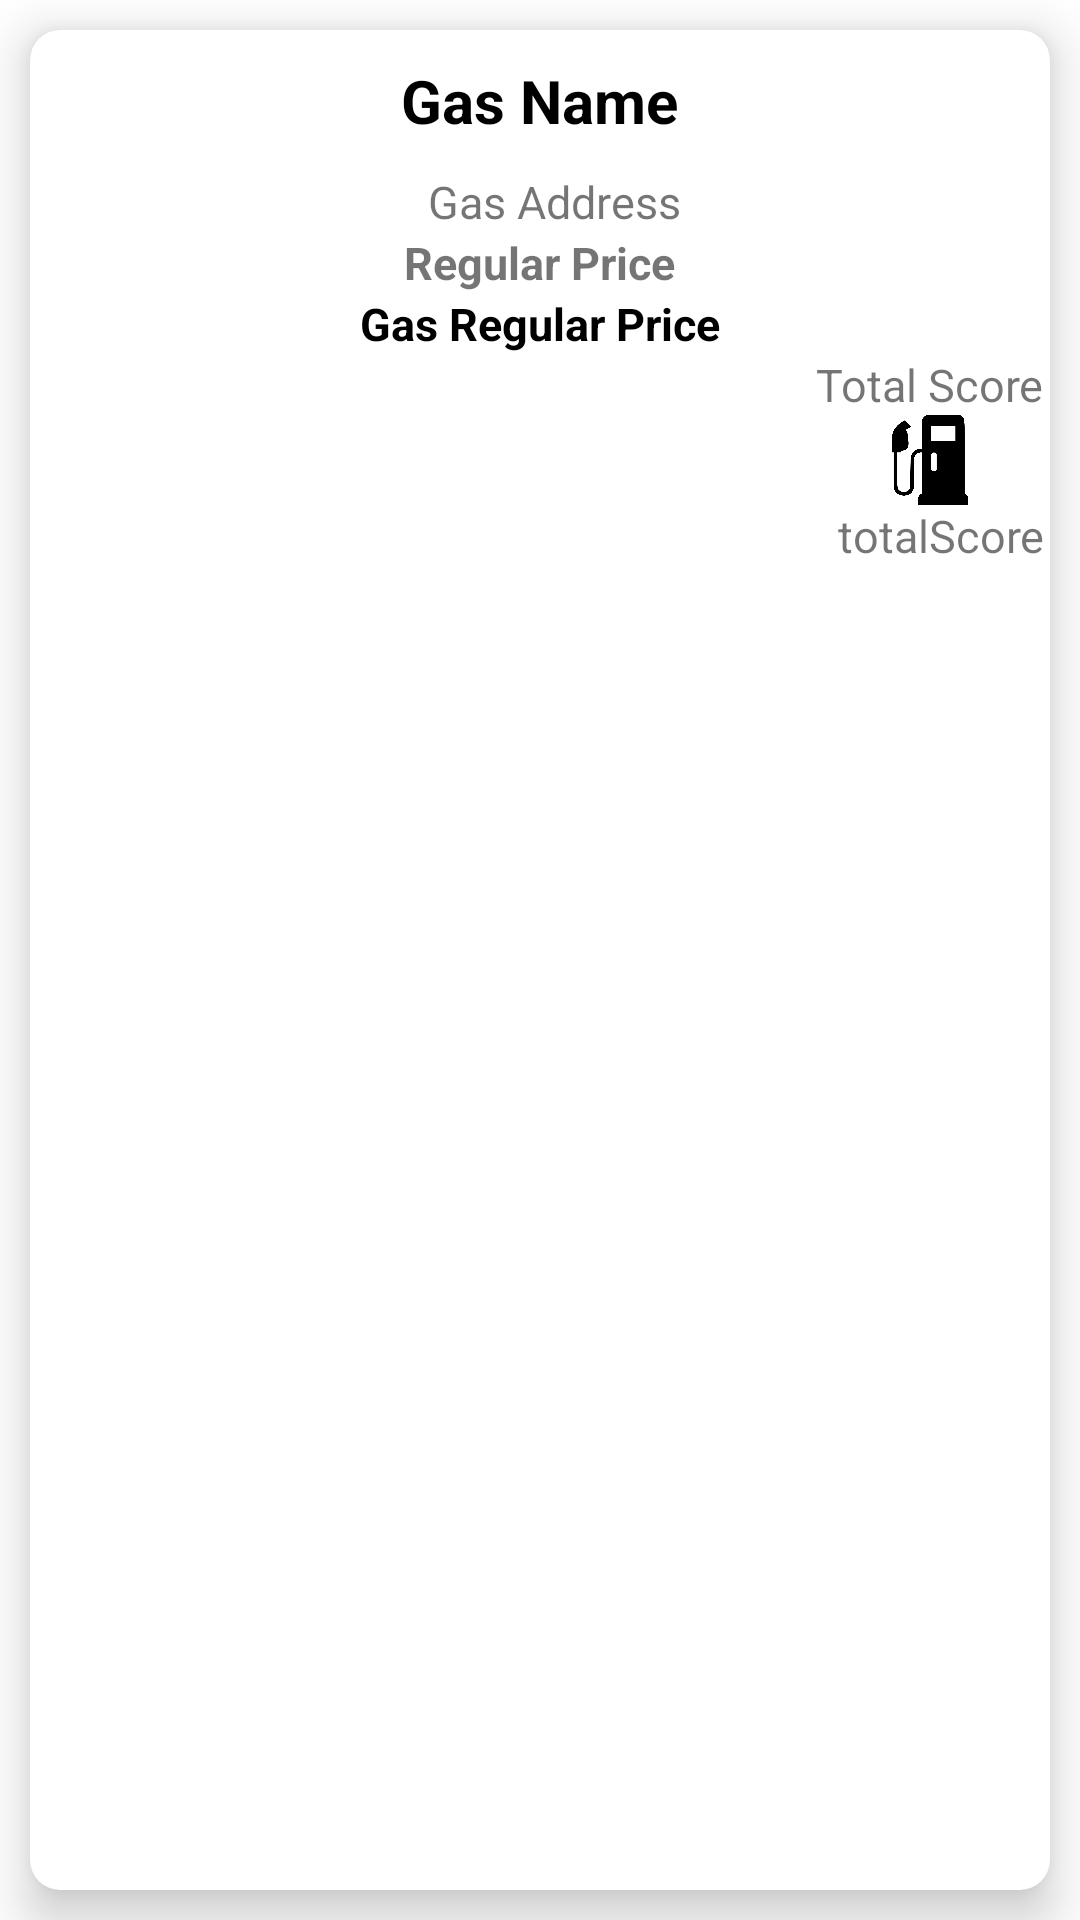

Icon bounding boxes for this 1080px x 1920px phone screenshot, format BBox(x1, y1, x2, y2):
gaspump: BBox(892, 415, 968, 505)
